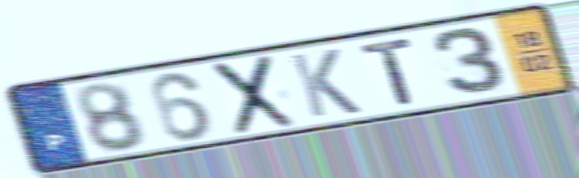3: (430, 26, 509, 97)
6: (148, 69, 215, 145)
8: (75, 81, 147, 155)
K: (286, 46, 366, 120)
T: (357, 34, 419, 108)
X: (209, 51, 299, 138)
